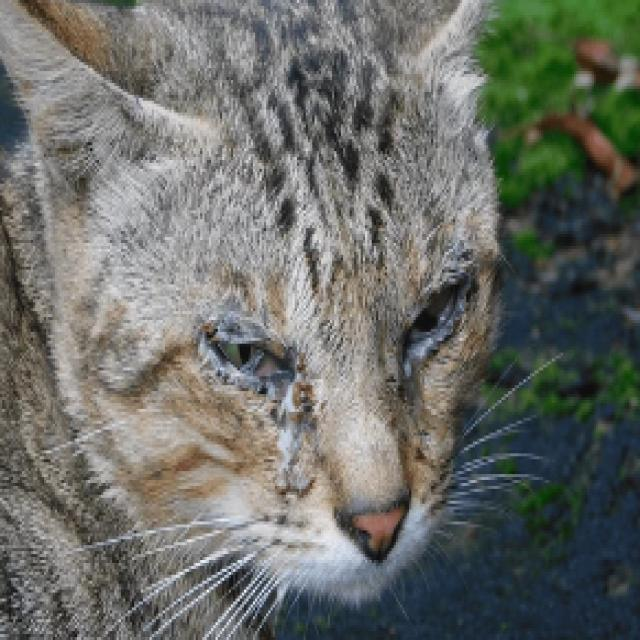Mange: (404, 302, 479, 379), (274, 383, 316, 503), (207, 355, 296, 395), (207, 308, 259, 345)
